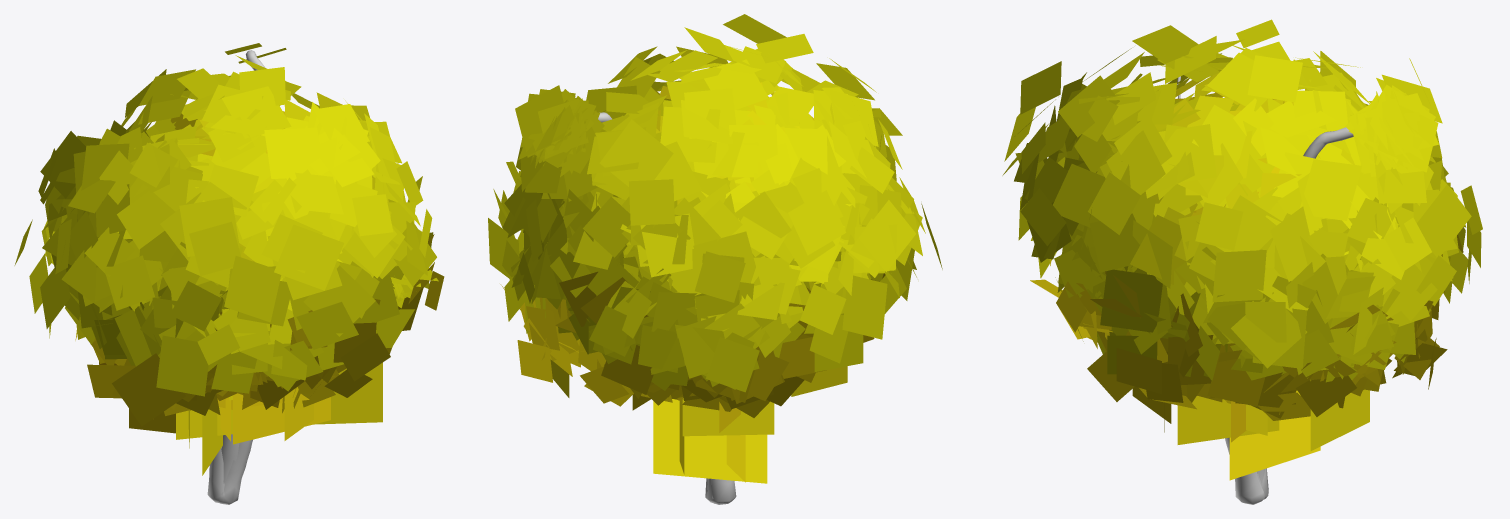
The model's file is trees.glb.
The picture shows the model from 3 angles, left to right: view 1: azimuth 30°, elevation 25°; view 2: azimuth 150°, elevation 25°; view 3: azimuth 270°, elevation 25°; orthographic projection. The views are drawn at different scales.
Parts seen in each view (by area): view 1: oak2_leaves_lod0, oak3_leaves_lod0, oak0_leaves_lod0, oak1_leaves_lod0, dead2_bark_lod0, oak3_bark_lod0, oak2_bark_lod0; view 2: oak2_leaves_lod0, oak0_leaves_lod0, oak1_leaves_lod0, oak3_leaves_lod0, oak3_bark_lod0; view 3: oak2_leaves_lod0, oak1_leaves_lod0, oak0_leaves_lod0, oak3_leaves_lod0, dead2_bark_lod0, oak2_bark_lod0.
Boxes of the visible parts, x1,y1,x2,y2 form: oak2_leaves_lod0: (40, 43, 444, 400); oak3_leaves_lod0: (14, 195, 438, 441); oak0_leaves_lod0: (38, 69, 415, 444); oak1_leaves_lod0: (43, 118, 433, 475); dead2_bark_lod0: (211, 439, 252, 504); oak3_bark_lod0: (207, 447, 224, 503); oak2_bark_lod0: (221, 50, 265, 483); oak2_leaves_lod0: (506, 14, 902, 326); oak0_leaves_lod0: (493, 53, 913, 436); oak1_leaves_lod0: (488, 80, 916, 483); oak3_leaves_lod0: (500, 177, 942, 482); oak3_bark_lod0: (707, 478, 736, 504); oak2_leaves_lod0: (1002, 19, 1463, 444); oak1_leaves_lod0: (1076, 98, 1482, 480); oak0_leaves_lod0: (1049, 51, 1471, 432); oak3_leaves_lod0: (1031, 156, 1468, 450); dead2_bark_lod0: (1225, 437, 1268, 504); oak2_bark_lod0: (1177, 76, 1353, 158).
Size of what is drawn, in the model's own units: 13.05 by 14.23 by 13.83.
